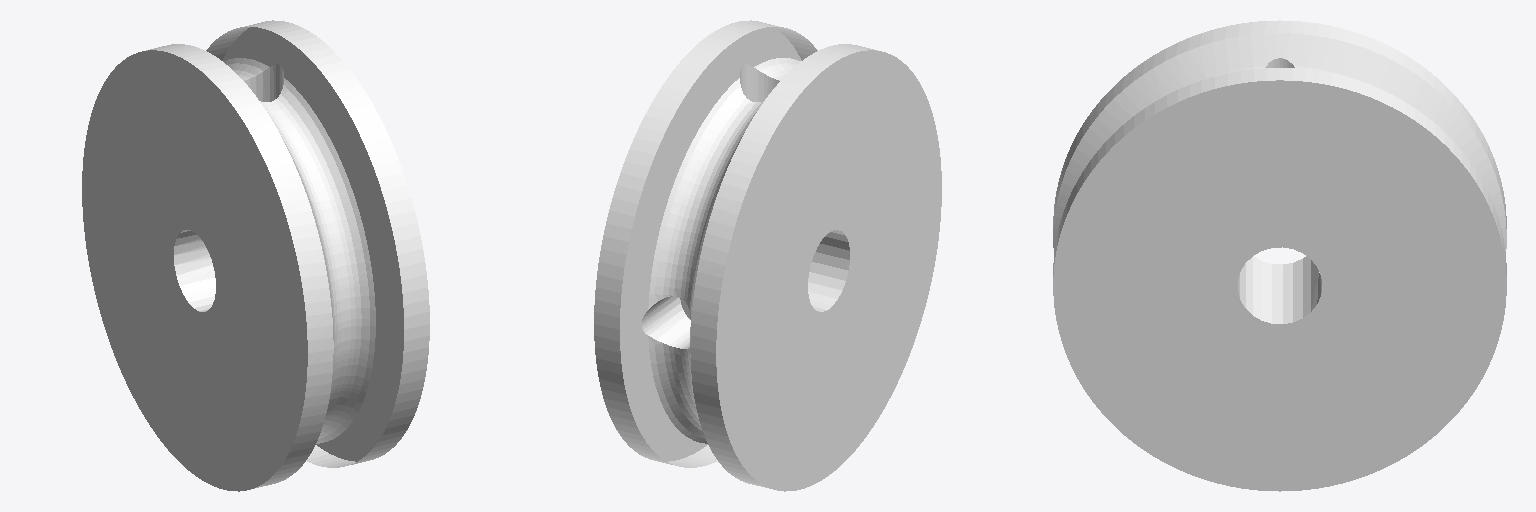
The robot description file, URDF, robot "assy_part_13":
<?xml version="1.0" ?>
<!-- =================================================================================== -->
<!-- |    This document was autogenerated by xacro from [local-path]/catkin_ws/src/artros/o2as_parts_description/urdf/generated/13_MBGA30-2_non_macro.urdf.xacro | -->
<!-- |    EDITING THIS FILE BY HAND IS NOT RECOMMENDED                                 | -->
<!-- =================================================================================== -->
<robot name="assy_part_13" xmlns:xacro="http://www.ros.org/wiki/xacro">
  <link name="assy_part_13">
    <visual>
      <origin rpy="1.5707 0 0" xyz="0 0 0"/>
      <geometry>
        <mesh filename="package://o2as_parts_description/meshes/13_MBGA30-2.dae" scale="0.001 0.001 0.001"/>
      </geometry>
      <material name="white">
        <color rgba="1 1 1 1"/>
      </material>
    </visual>
    <collision>
      <origin rpy="1.5707 0 0" xyz="0 0 0"/>
      <geometry>
        <mesh filename="package://o2as_parts_description/meshes/13_MBGA30-2.vhacd.dae" scale="0.001 0.001 0.001"/>
      </geometry>
    </collision>
  </link>
  <!-- Extra frames for assembly and motion planning, if any -->
  <joint name="assy_part_13_center_joint" type="fixed">
    <parent link="assy_part_13"/>
    <child link="assy_part_13_center"/>
    <origin rpy="0 0 0" xyz="0 0 0"/>
  </joint>
  <link name="assy_part_13_center"/>
  <joint name="assy_part_13_screw_head_joint" type="fixed">
    <parent link="assy_part_13"/>
    <child link="assy_part_13_screw_head"/>
    <origin rpy="0 1.57079632679 0" xyz="0 0 0.016"/>
  </joint>
  <link name="assy_part_13_screw_head"/>
</robot>

--- Facts derived from the render (not from the file) ---
3 views of the same robot in one strip: view 1: azimuth 30°, elevation 25°; view 2: azimuth 150°, elevation 25°; view 3: azimuth 270°, elevation 25° (orthographic).
Model assy_part_13 with 3 links and 2 joints (2 fixed), rooted at assy_part_13, posed every joint at zero.
Links seen in each view (by area): view 1: assy_part_13; view 2: assy_part_13; view 3: assy_part_13.
Boxes of the visible links, left/top/right/bottom form: assy_part_13: left=82, top=20, right=429, bottom=491; assy_part_13: left=594, top=20, right=941, bottom=491; assy_part_13: left=1053, top=20, right=1506, bottom=491.
Bounding box of the posed robot: 0.01 × 0.032 × 0.032 m (x, y, z).
Meshes: 1 distinct files referenced, 1 mesh visuals loaded (1 Collada DAE).